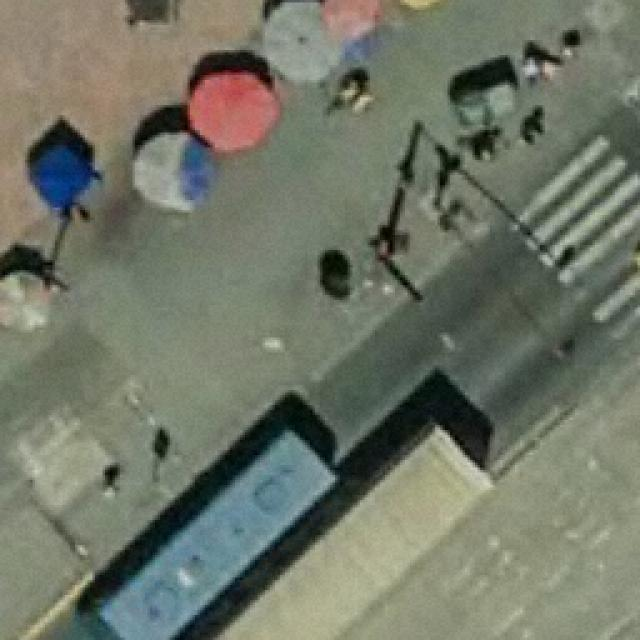vendedor_ambulante: (184, 66, 282, 152), (128, 128, 217, 215), (255, 0, 342, 82), (28, 140, 99, 210), (0, 263, 58, 337), (316, 0, 384, 40)
